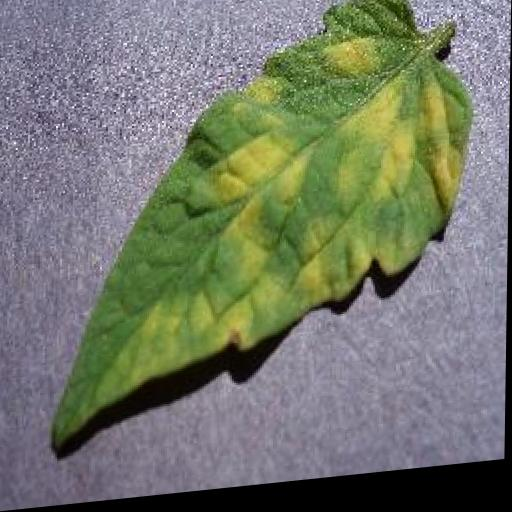Leaf Mold: (52, 0, 474, 449)
